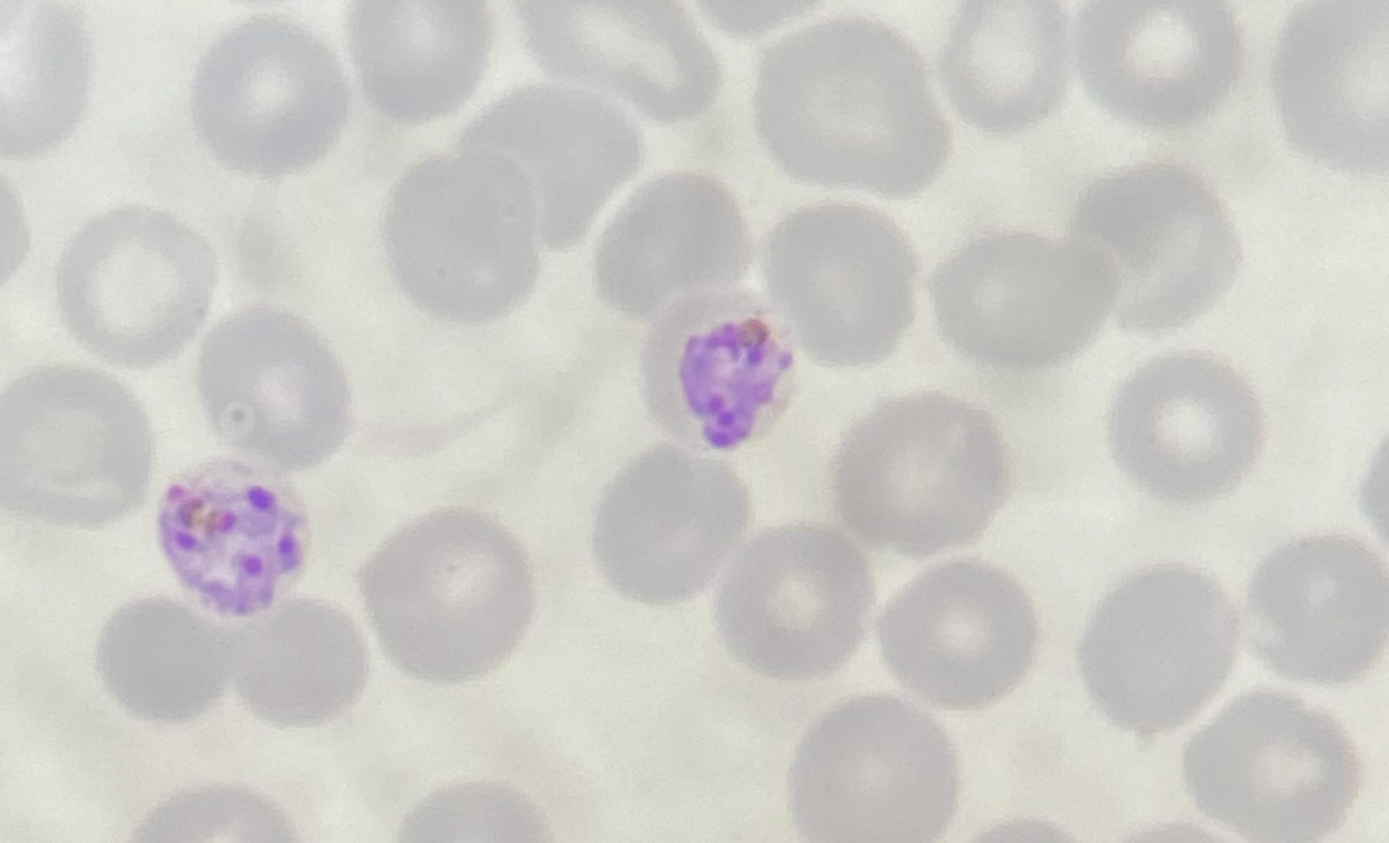Infected: (598, 388, 753, 559), (1084, 224, 1230, 376)
Uninfected: (438, 649, 634, 825), (849, 160, 1036, 329), (748, 600, 933, 763), (845, 520, 1006, 695), (378, 291, 556, 447), (273, 472, 459, 619), (150, 111, 314, 277), (148, 516, 316, 678), (27, 0, 200, 148), (470, 479, 625, 642), (635, 242, 794, 400), (1035, 376, 1191, 535), (1036, 671, 1196, 826), (1234, 316, 1388, 474), (350, 134, 513, 283), (1171, 478, 1327, 633), (430, 0, 598, 143), (516, 164, 672, 316), (122, 338, 281, 486), (670, 723, 861, 837), (1, 156, 141, 307), (642, 528, 789, 670), (151, 714, 312, 843), (895, 720, 1041, 841), (1154, 117, 1290, 243), (1023, 117, 1160, 241), (315, 713, 446, 839)
